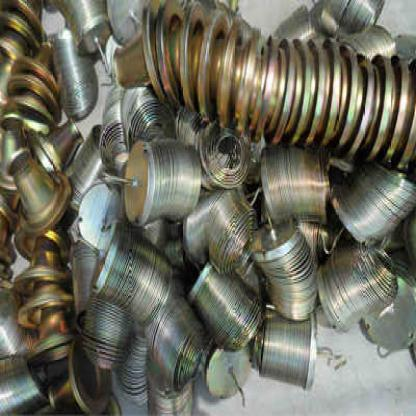FOD: (143, 0, 415, 169), (253, 210, 319, 322), (318, 244, 398, 332)
